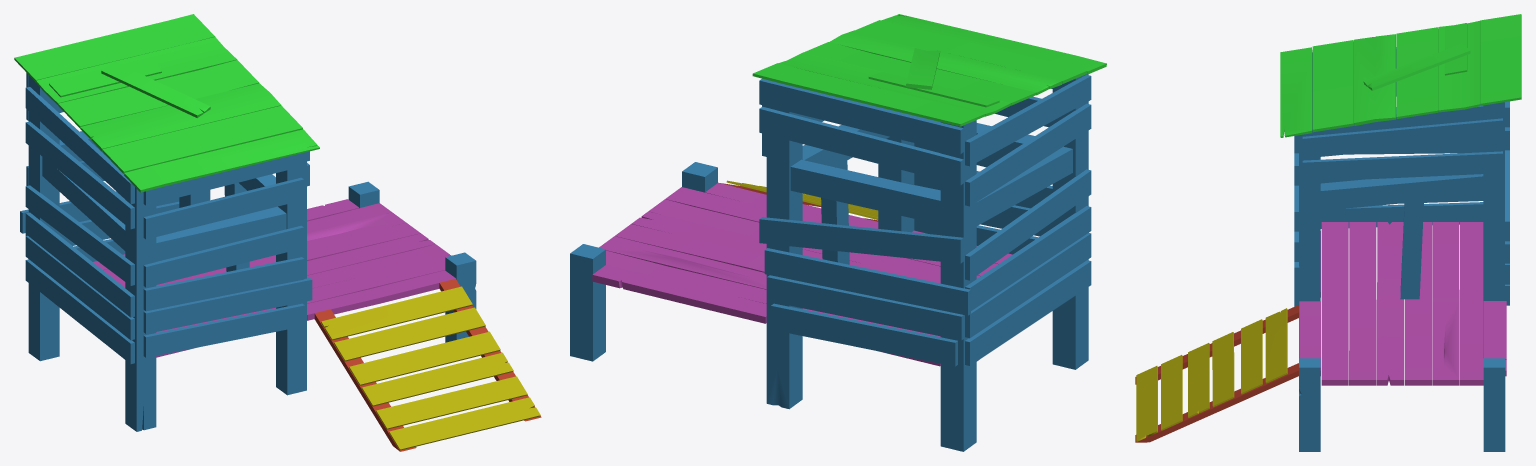
The model's file is Chicken Cage.fbx.
The picture shows the model from 3 angles, left to right: view 1: azimuth 30°, elevation 25°; view 2: azimuth 150°, elevation 25°; view 3: azimuth 270°, elevation 25°; orthographic projection. The views are drawn at different scales.
Parts seen in each view (by area): view 1: Chicken Cage; view 2: Chicken Cage; view 3: Chicken Cage.
Part boxes in pixels (x1,y1,x2,y2): Chicken Cage: (14,14,541,451); Chicken Cage: (570,14,1106,451); Chicken Cage: (1135,14,1521,451).
Size of the model in its own units: 2.31 by 1.86 by 2.35.
